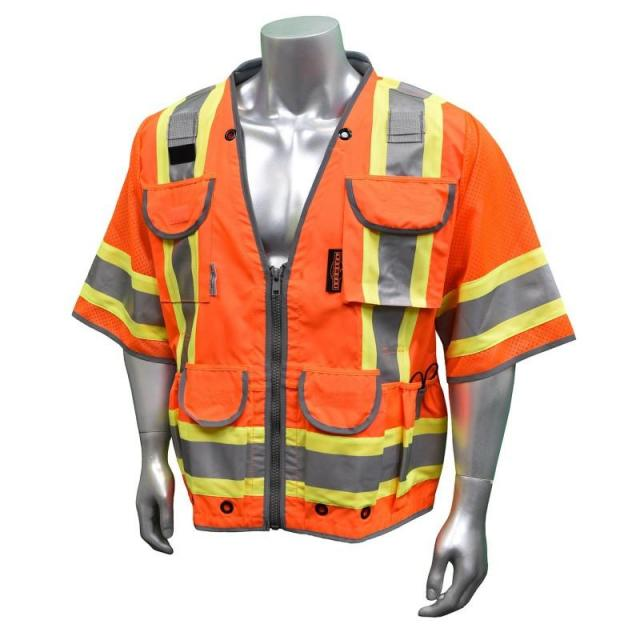Reflective-Jacket: (66, 51, 587, 559)
